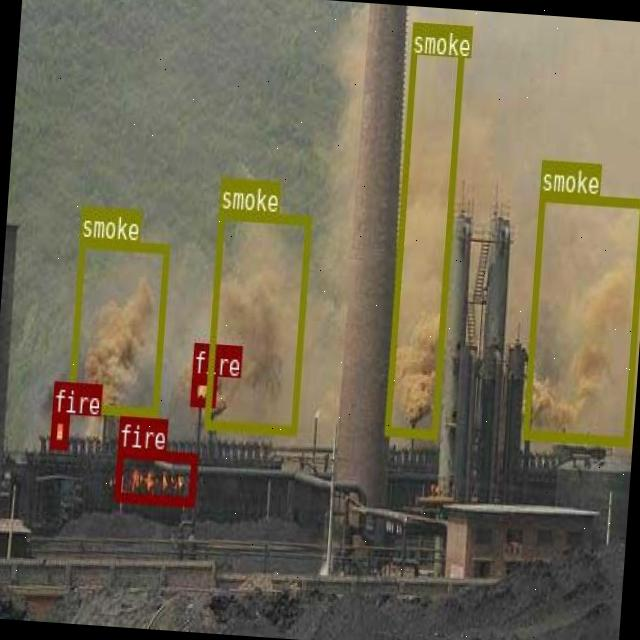fire: (114, 448, 195, 504), (189, 373, 215, 406), (48, 412, 68, 448)
smoke: (384, 21, 465, 436), (521, 190, 640, 444), (202, 208, 310, 432), (66, 238, 168, 415)
